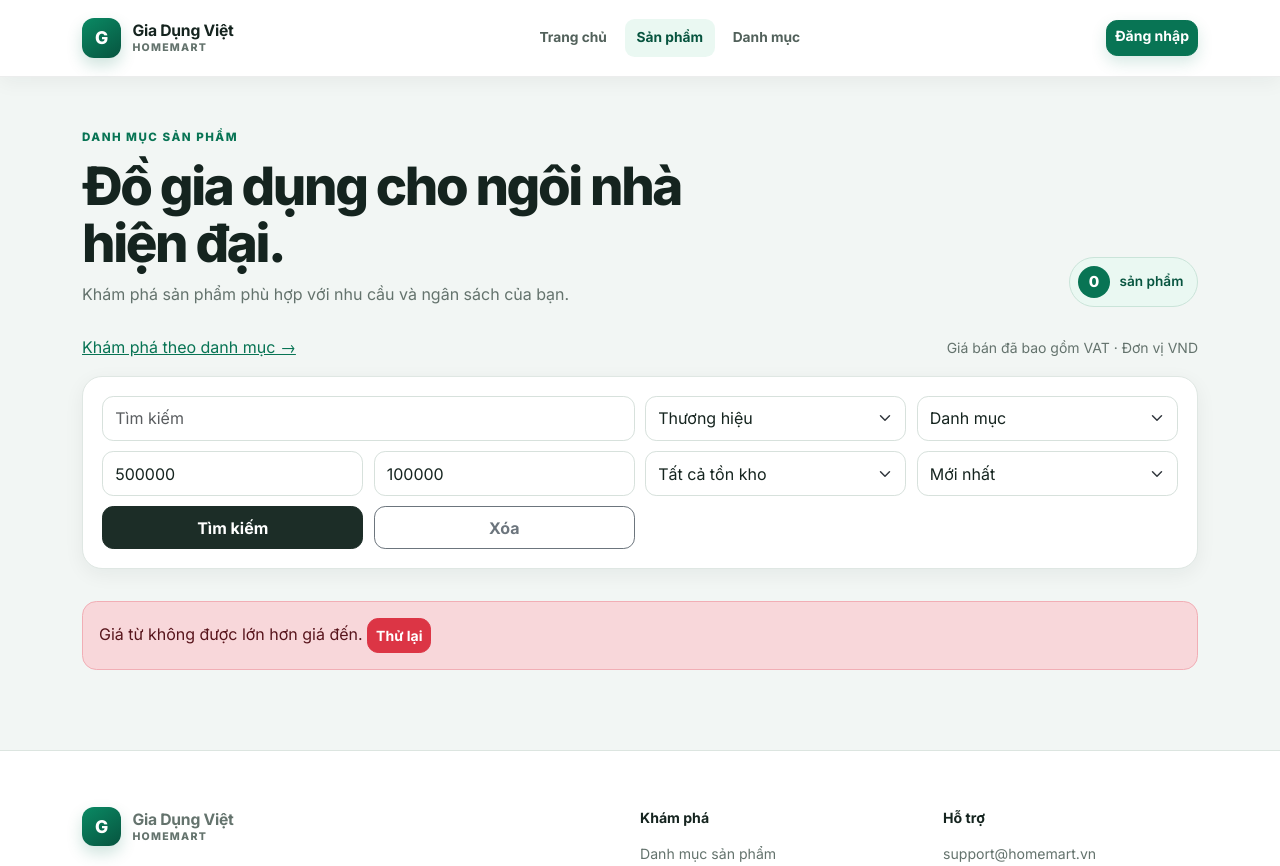
Test case: reports price validation errors and allows corrections
Check: the message shows "Giá từ không được lớn hơn giá đến.", box left=99, top=624, right=363, bottom=644
Replace the text in the number field named "Giá từ" with "50000" at (233, 474), box left=102, top=451, right=363, bottom=496
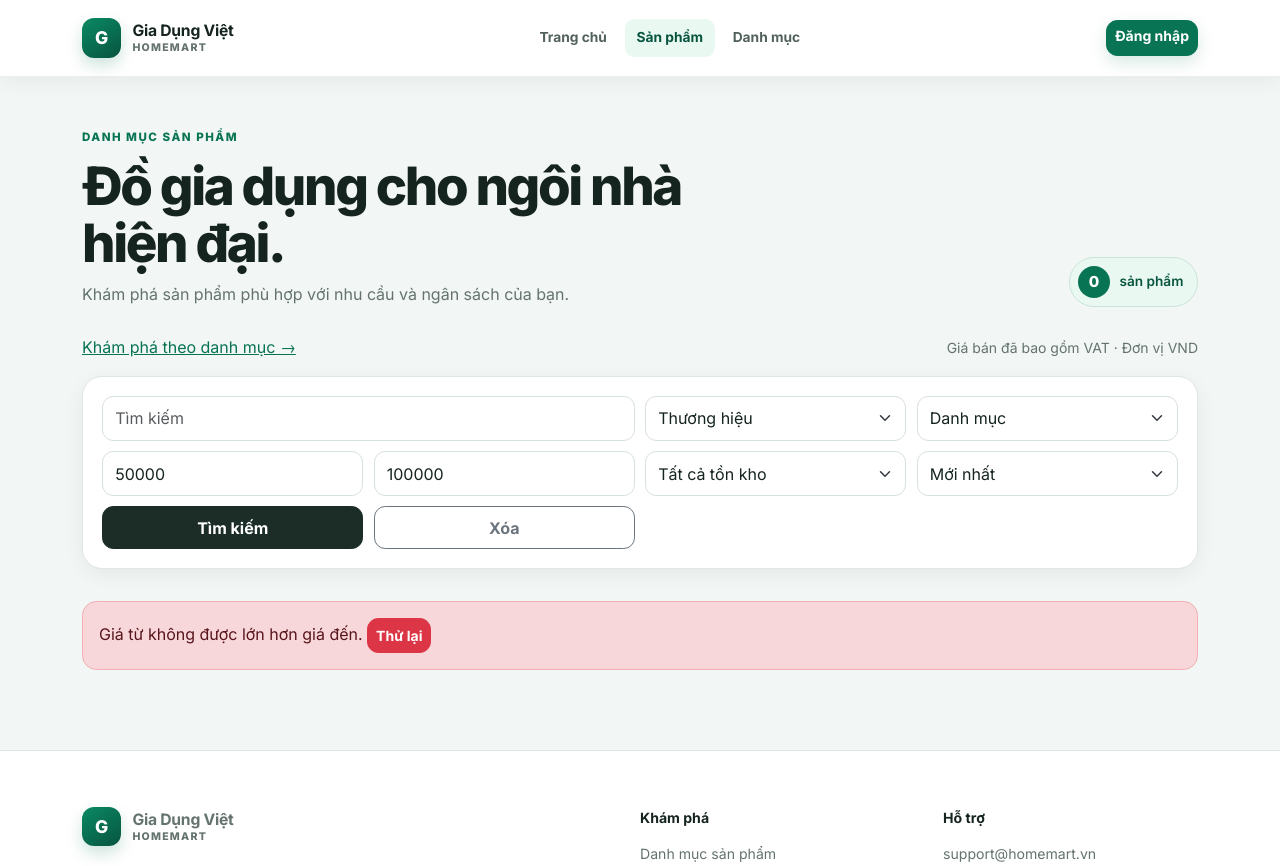
Leave the number field named "Giá từ", box left=102, top=451, right=363, bottom=496
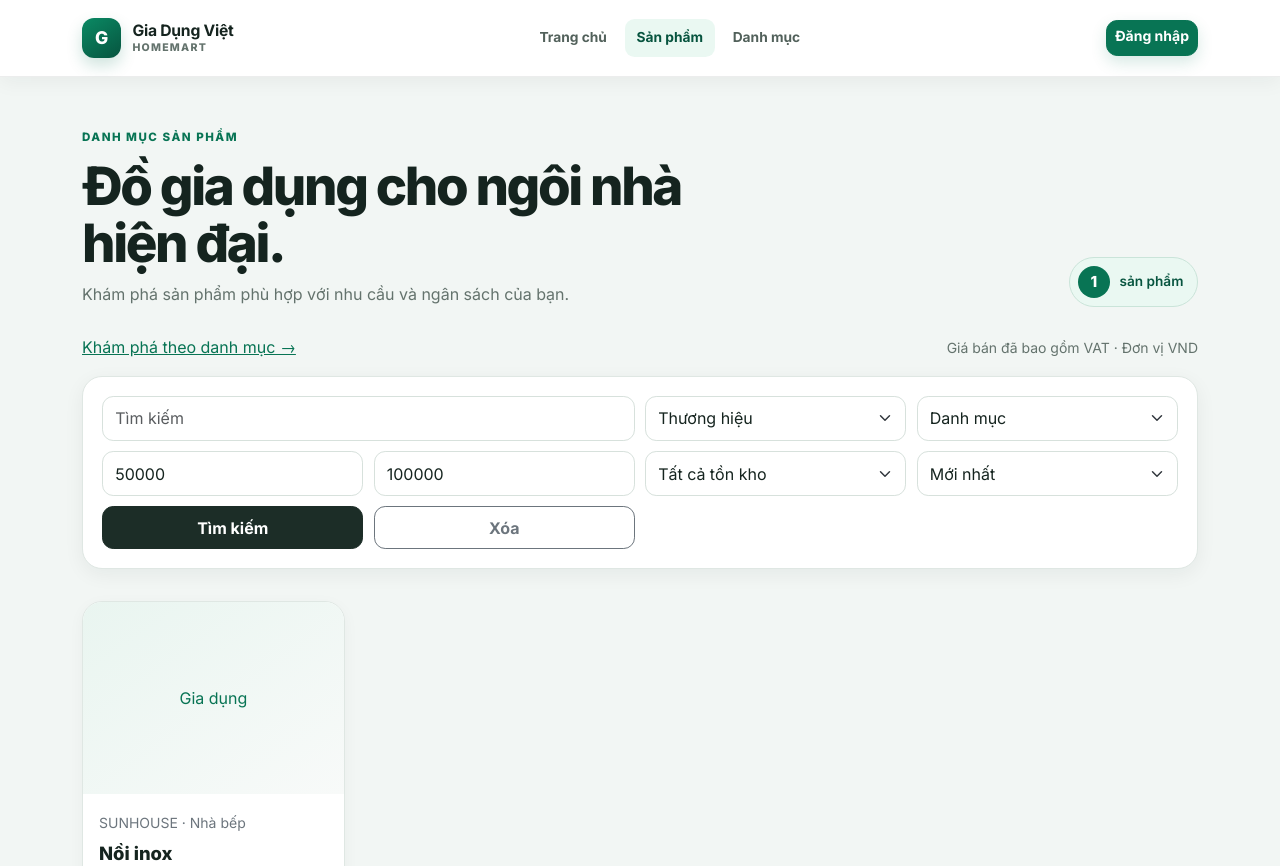
Check: the heading "Nồi inox" is shown, box left=99, top=842, right=173, bottom=864
